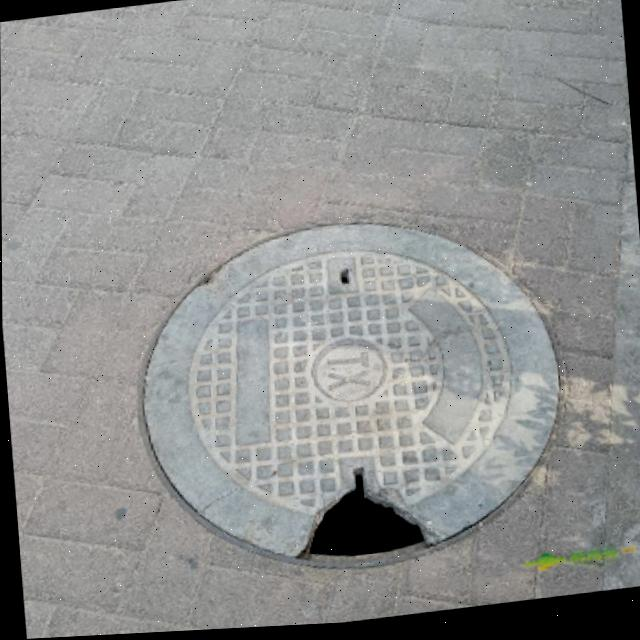manhole: (119, 193, 578, 592)
